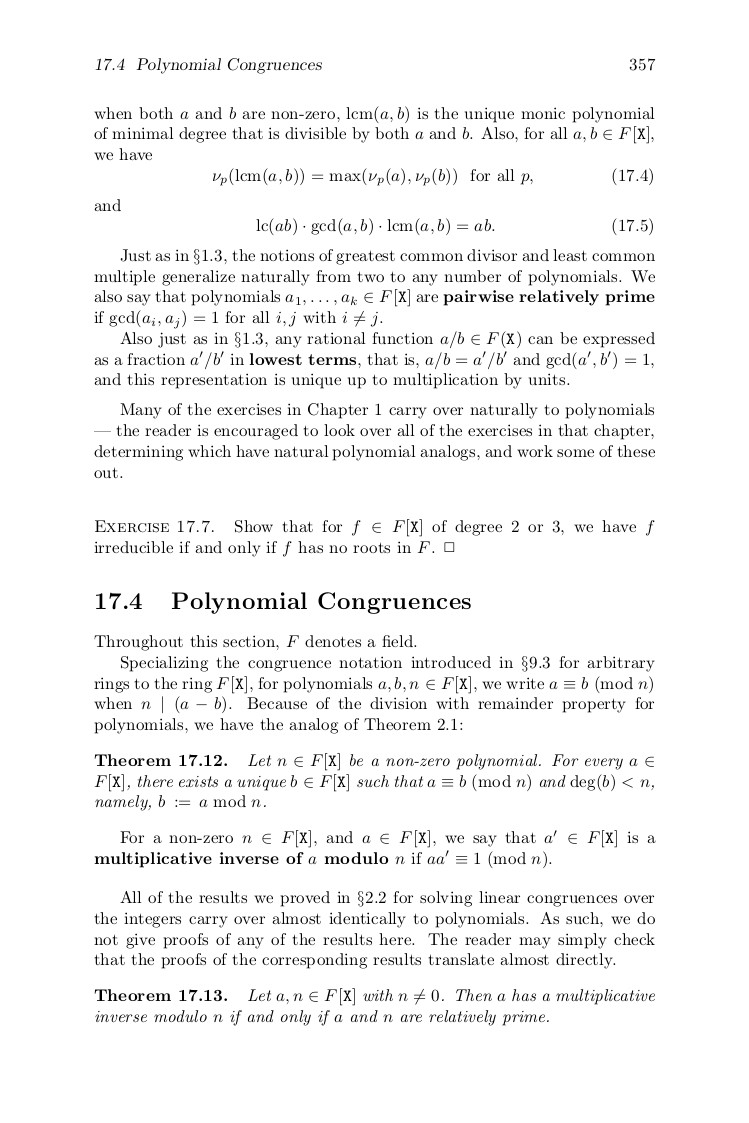formula: (213, 167, 652, 186), (256, 217, 652, 236)
